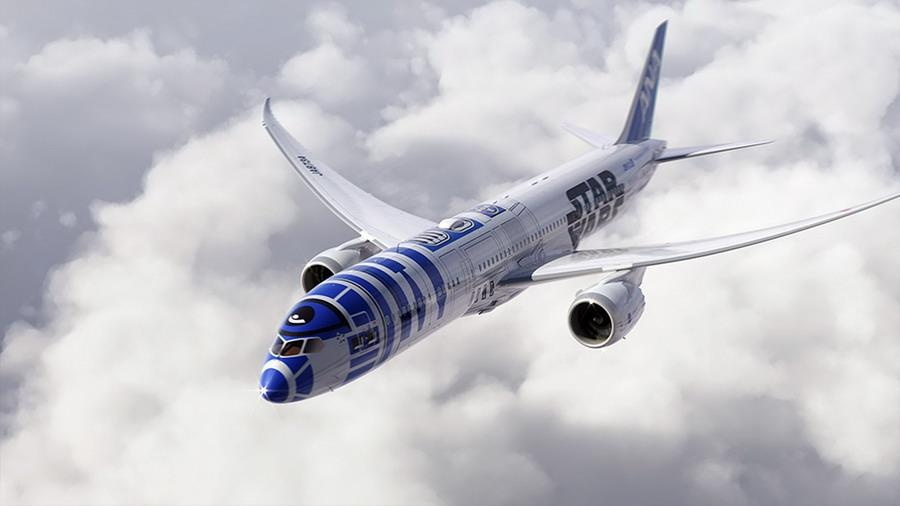airplane: (226, 22, 861, 413)
